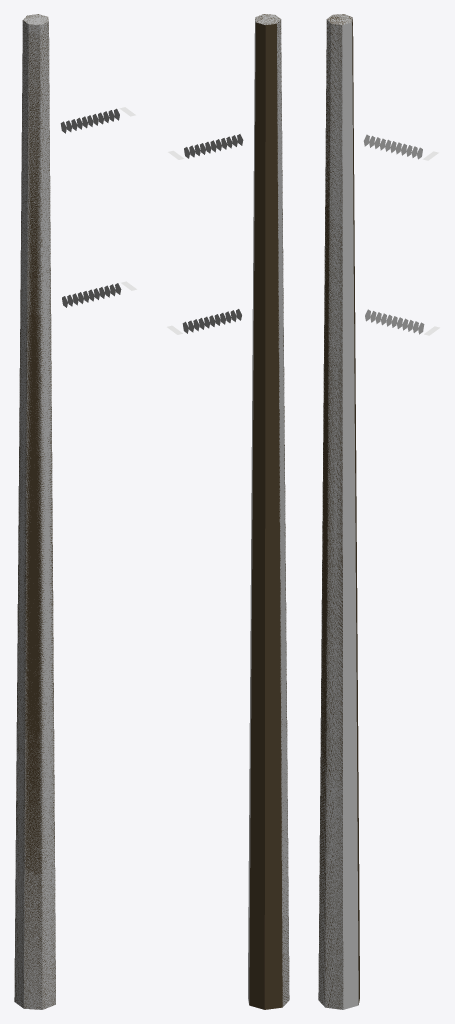
The model's file is TelecomCATV Pole4.obj.
The picture shows the model from 3 angles, left to right: view 1: azimuth 30°, elevation 25°; view 2: azimuth 210°, elevation 25°; view 3: azimuth 330°, elevation 25°; orthographic projection.
Visible parts, largest first — view 1: Mesh1 Component2_1 Component1 Model; view 2: Mesh1 Component2_1 Component1 Model; view 3: Mesh1 Component2_1 Component1 Model.
Boxes of the visible parts, x1,y1,x2,y2 form: Mesh1 Component2_1 Component1 Model: (14, 14, 55, 1009); Mesh1 Component2_1 Component1 Model: (248, 14, 289, 1009); Mesh1 Component2_1 Component1 Model: (318, 14, 359, 1009).
Size of the model in its own units: 1481 by 12363 by 481.
